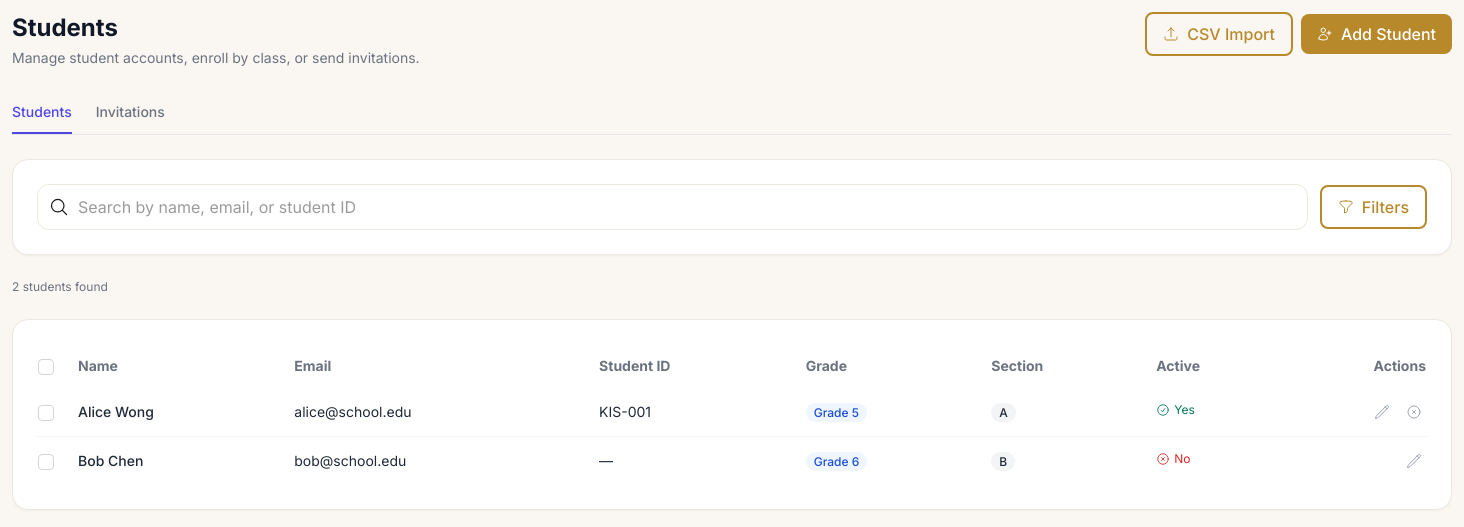
it: StudentsPage › tab navigation › switching to Invitations tab shows Invite Student button
Click the button "Invitations": (130, 113) left=96, top=92, right=165, bottom=134
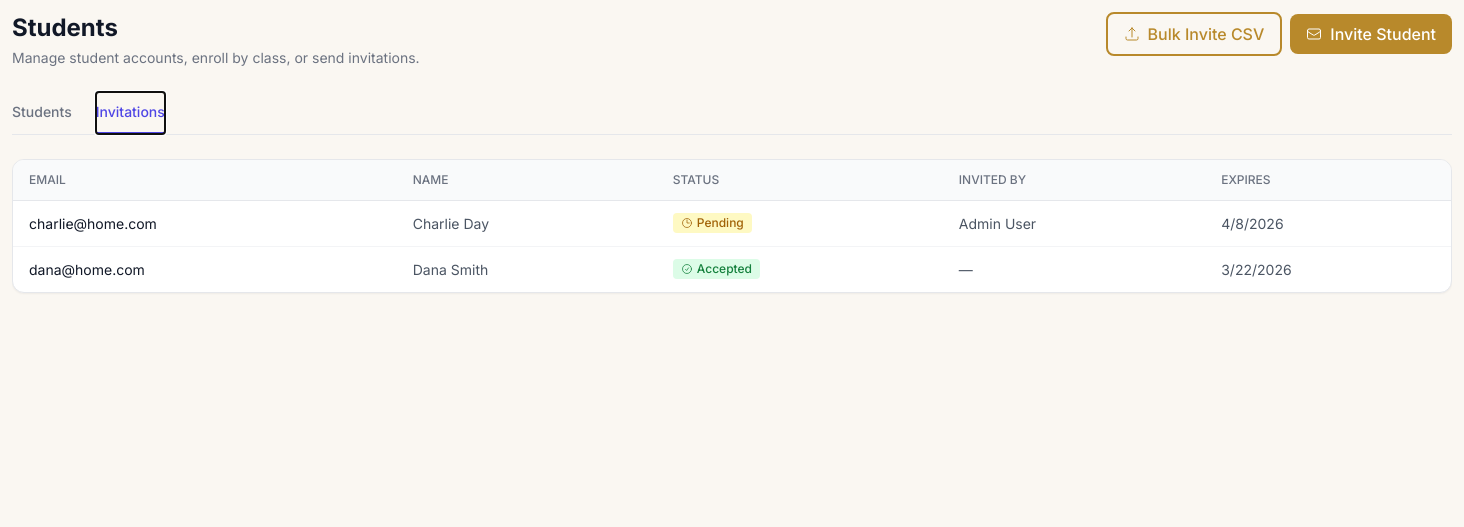
Check: the button "Invite Student" is shown, box left=1290, top=14, right=1452, bottom=54
